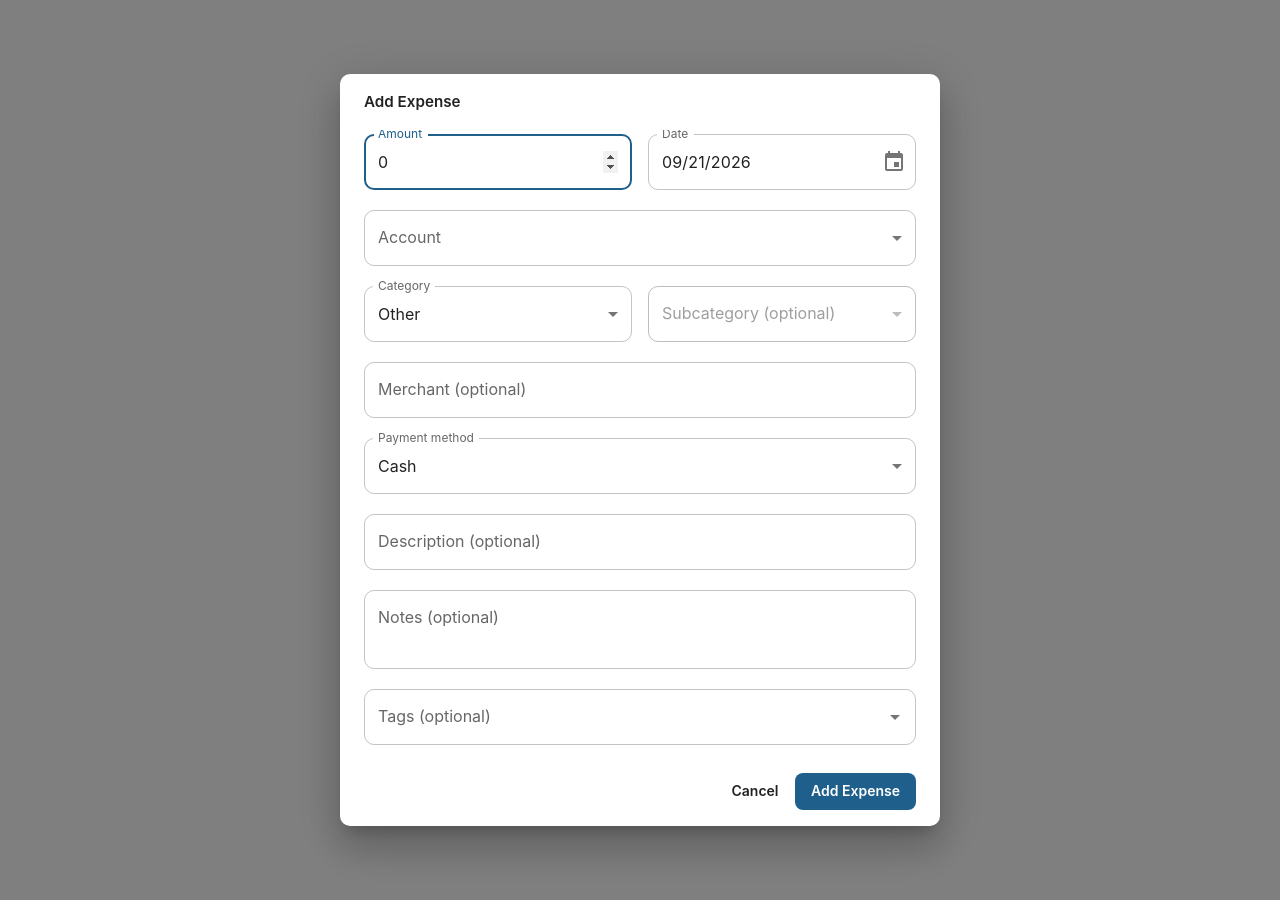
it: ExpenseFormDialog › shows a validation error and does not submit without an account
This screenshot has width=1280, height=900.
Replace the text in the number field labelled "Amount" with "100": (498, 162) [364,134,632,190]
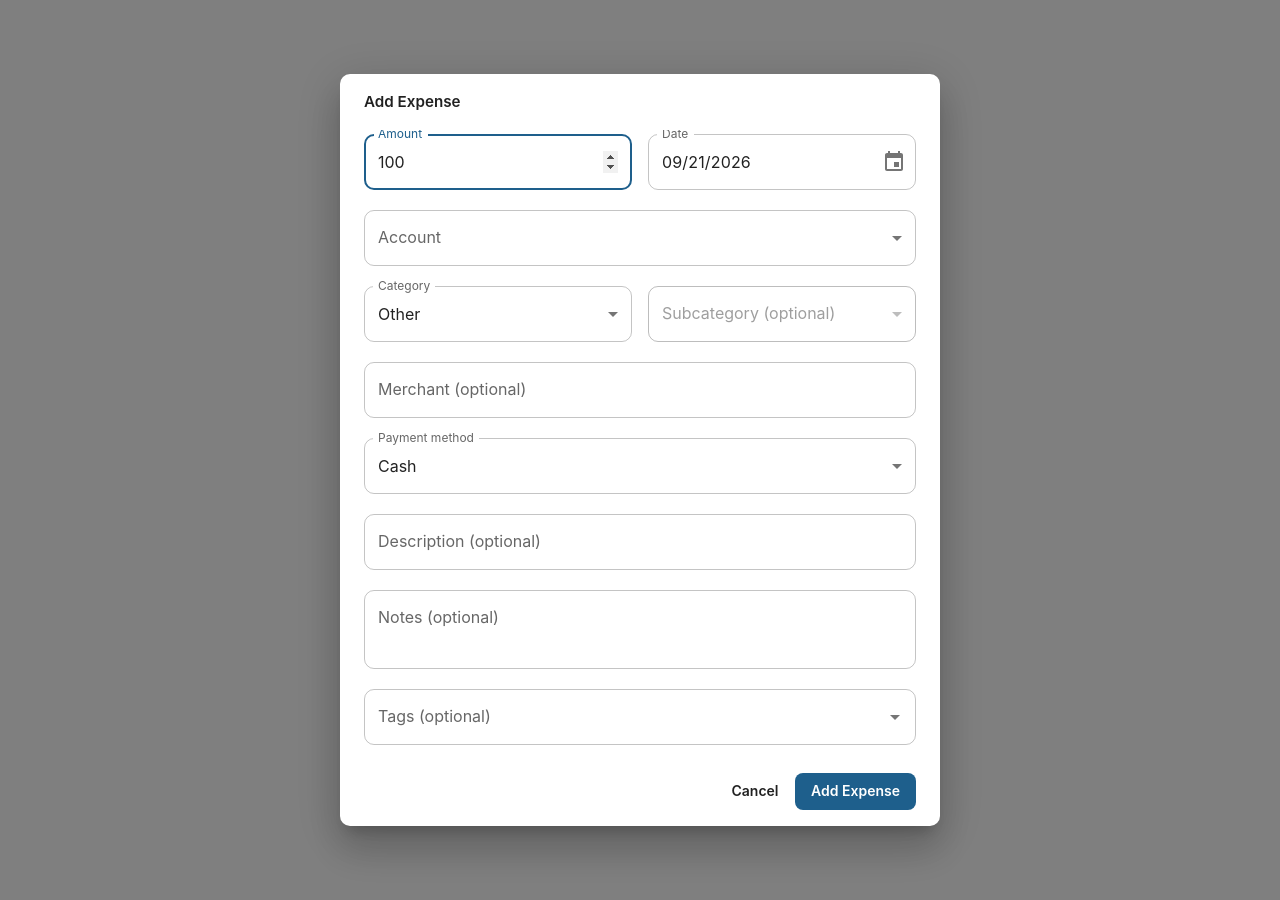
Click the button "Add Expense": click(856, 792) [795,773,916,810]
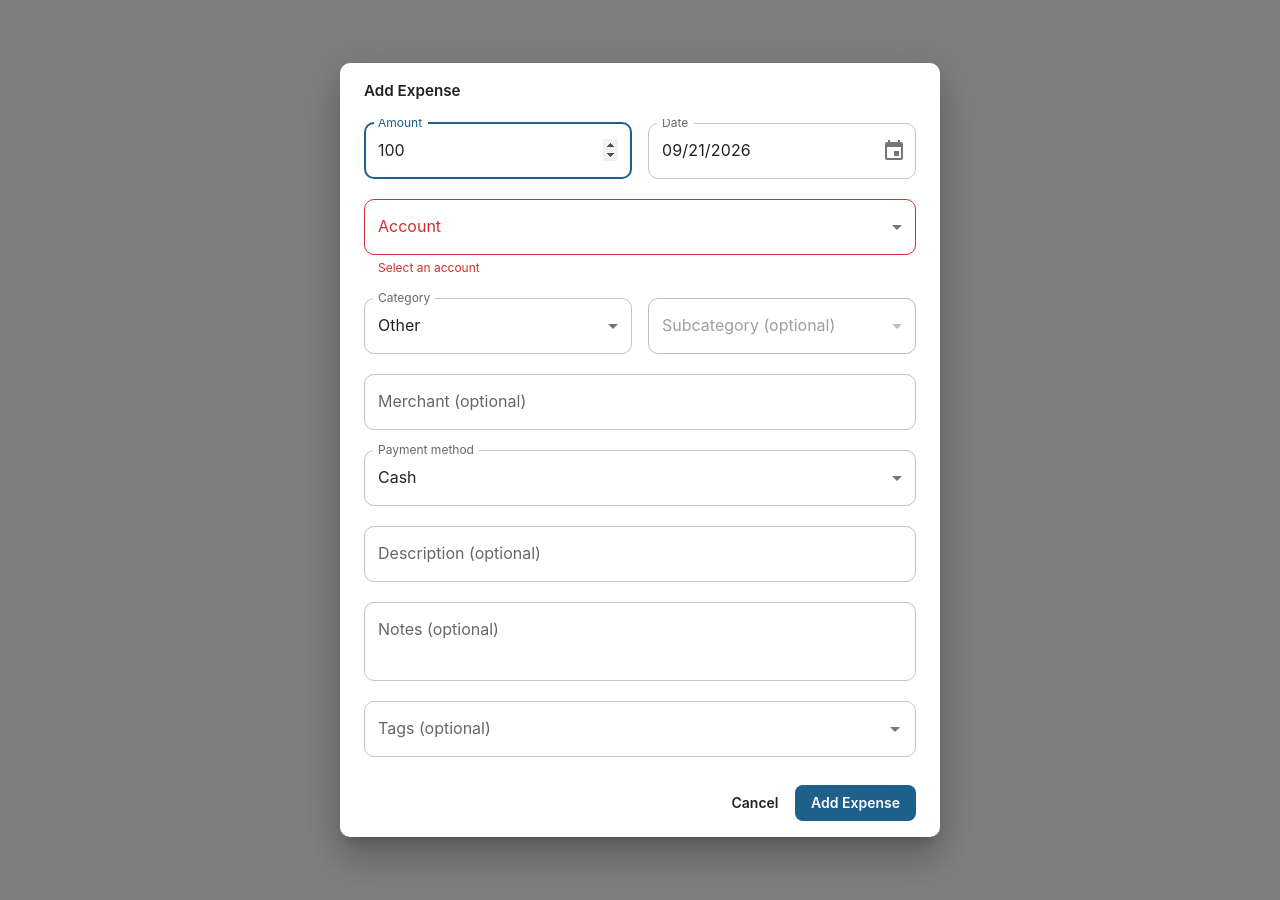
Check: the text "Select an account" is shown, box [378,260,480,275]
